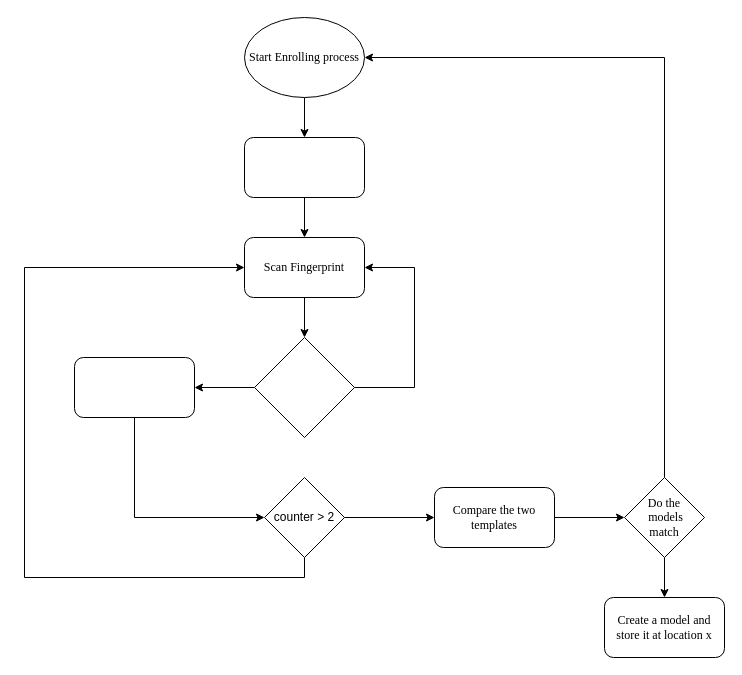
Image size: 742x675. Some labels were removed from this diagram. Each missing label, with the centre of its shape:
Create a Template, store it and increament counter: point 134,387
Is fingerprint valid?: point 304,387
Set Counter = 0: point 304,167
